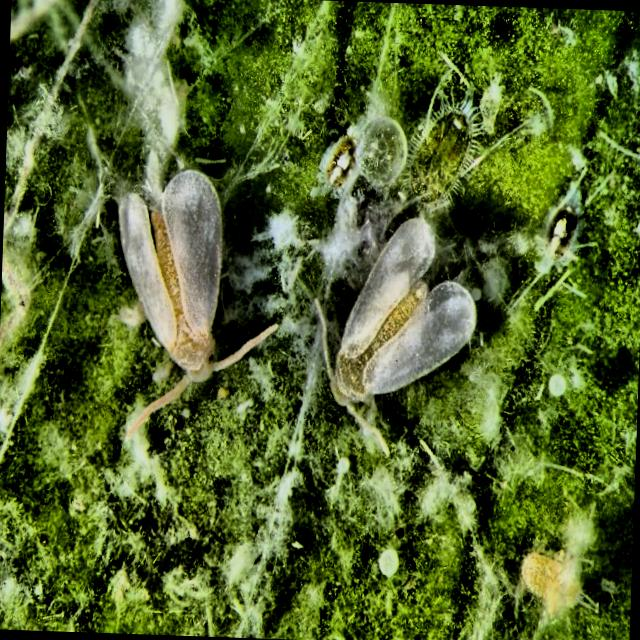egg: (378, 548, 398, 577), (549, 374, 566, 396), (337, 457, 349, 474)
nymph: (320, 96, 407, 196), (410, 115, 467, 201), (521, 550, 581, 617), (551, 211, 574, 258)
whitefly: (332, 217, 475, 402), (128, 170, 222, 380)
